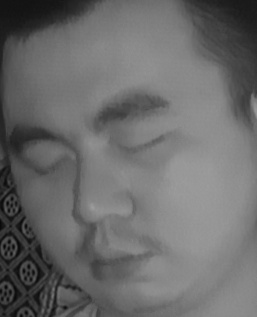blink: (114, 124, 173, 161), (25, 148, 75, 184)
mouth: (79, 237, 153, 291)
